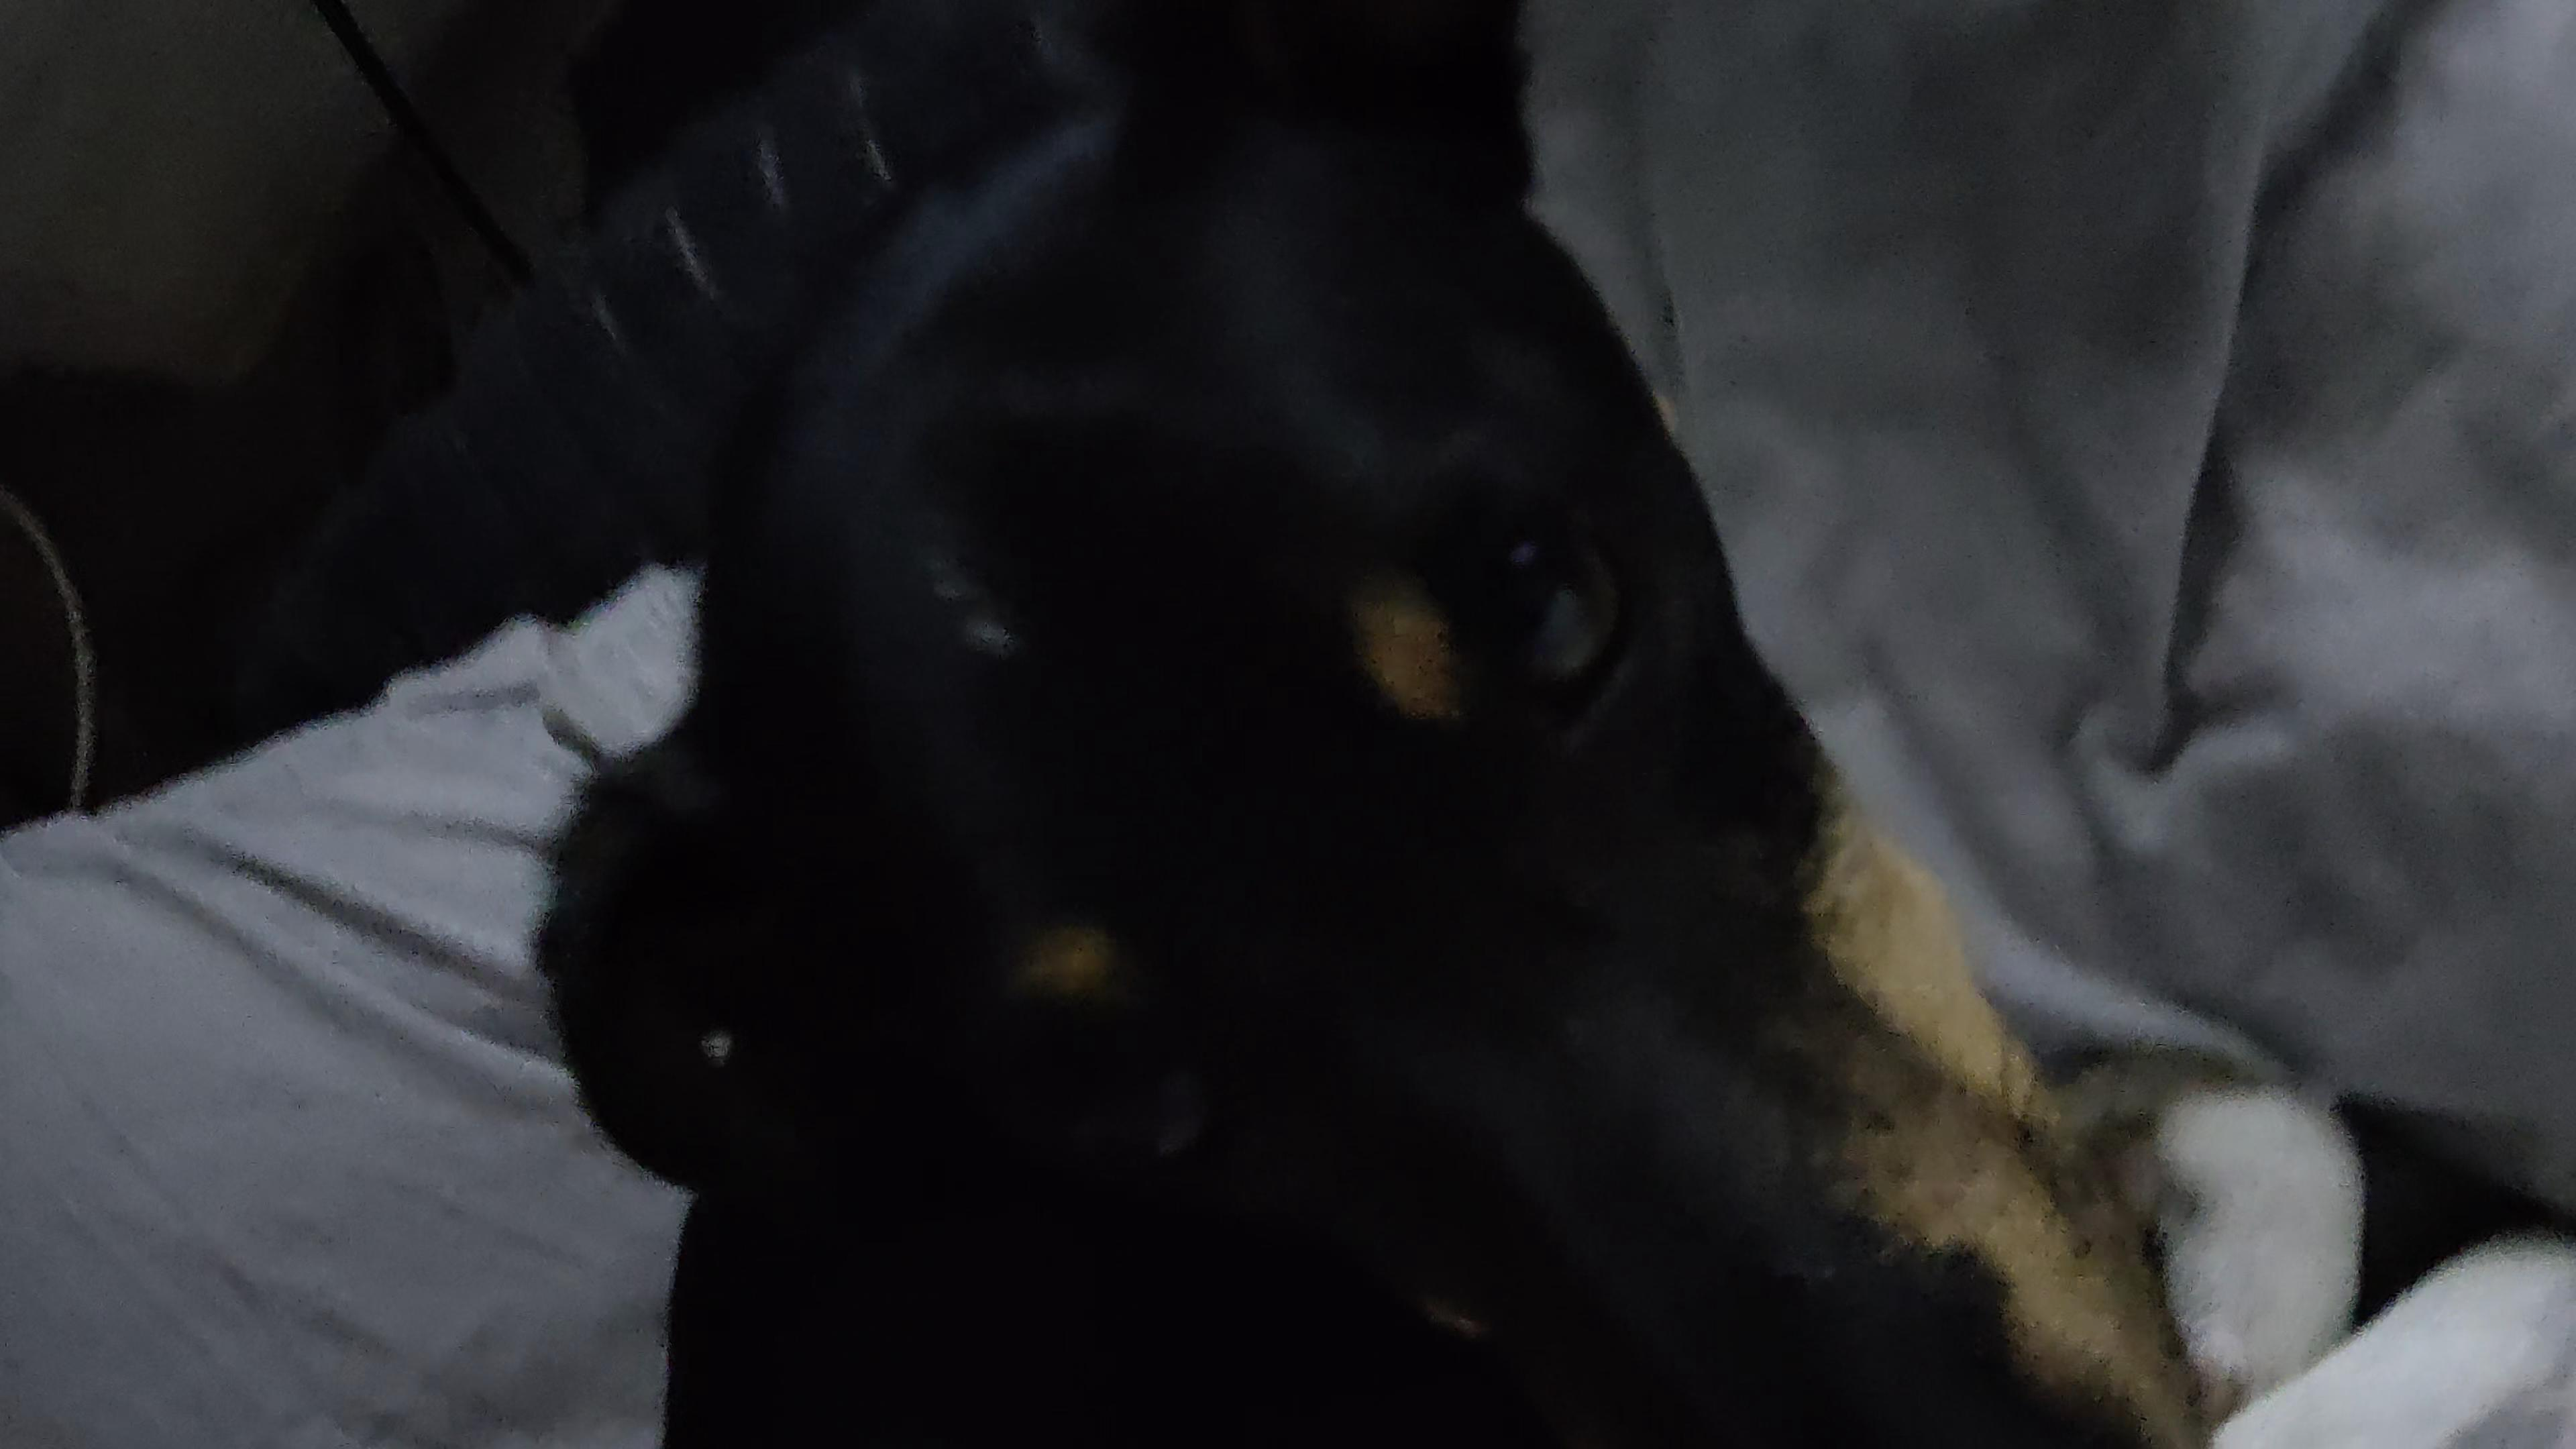Dog: (478, 0, 2576, 1449)
